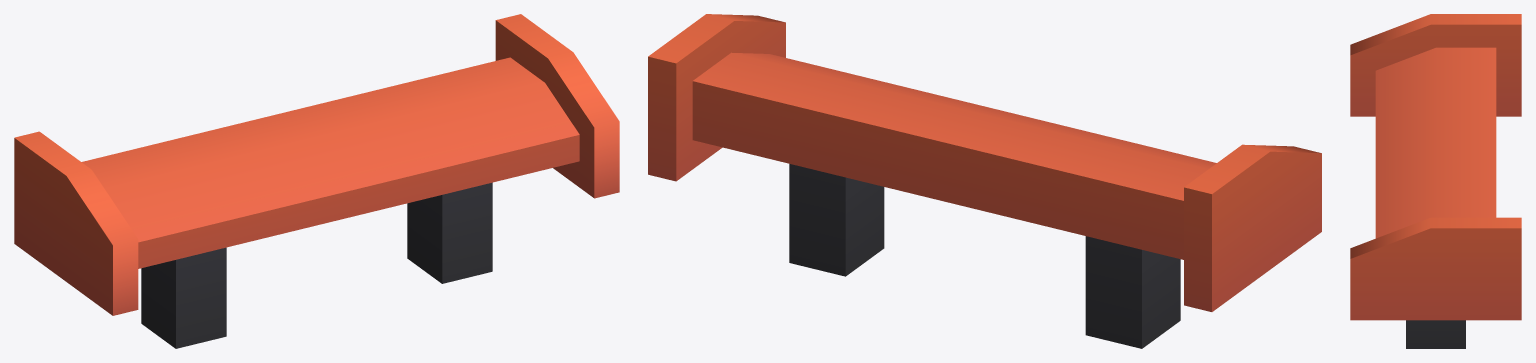
File: debris-spoiler-b.glb
The picture shows the model from 3 angles, left to right: view 1: azimuth 30°, elevation 25°; view 2: azimuth 150°, elevation 25°; view 3: azimuth 270°, elevation 25°; orthographic projection. The views are drawn at different scales.
Parts seen in each view (by area): view 1: debris-spoiler-b; view 2: debris-spoiler-b; view 3: debris-spoiler-b.
Boxes of the visible parts, x1,y1,x2,y2 form: debris-spoiler-b: [14, 14, 619, 348]; debris-spoiler-b: [648, 14, 1321, 348]; debris-spoiler-b: [1350, 14, 1521, 348].
Bounding box in the file's own units: 1 × 0.35 × 0.3374.
1 material, 1 textured.
